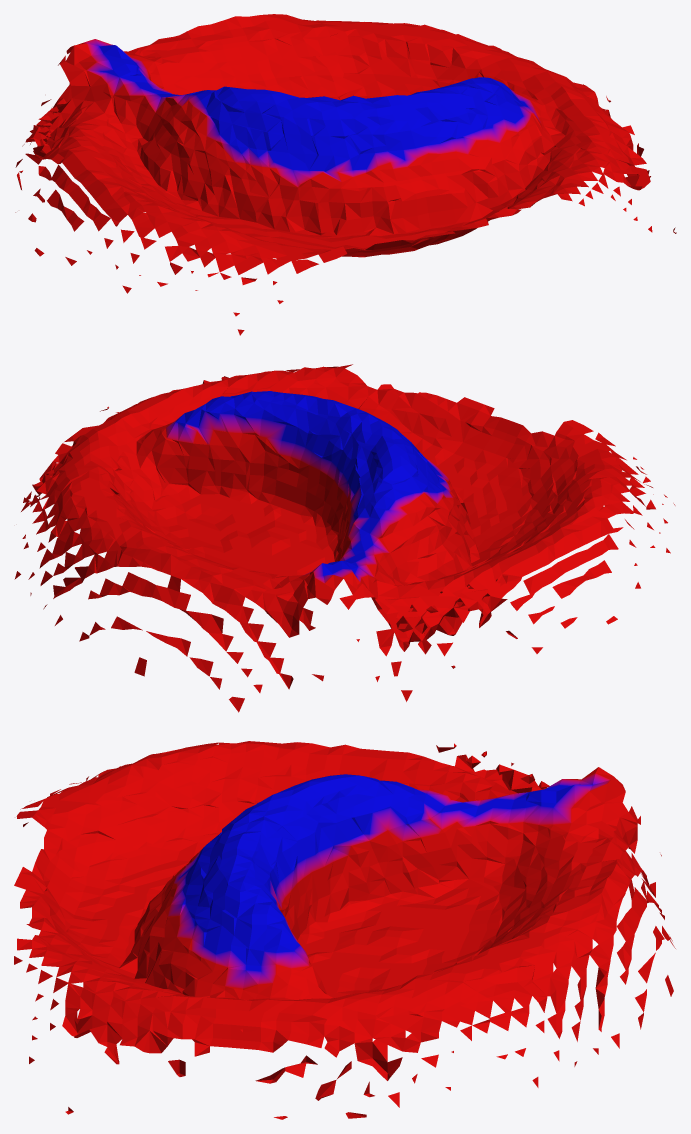
File: file_name.obj
3 renders of one model, top to bottom at view 1: azimuth 30°, elevation 25°; view 2: azimuth 150°, elevation 25°; view 3: azimuth 270°, elevation 25°, orthographic. The views are drawn at different scales.
Size of the model in its own units: 0.253 by 0.063 by 0.22.
